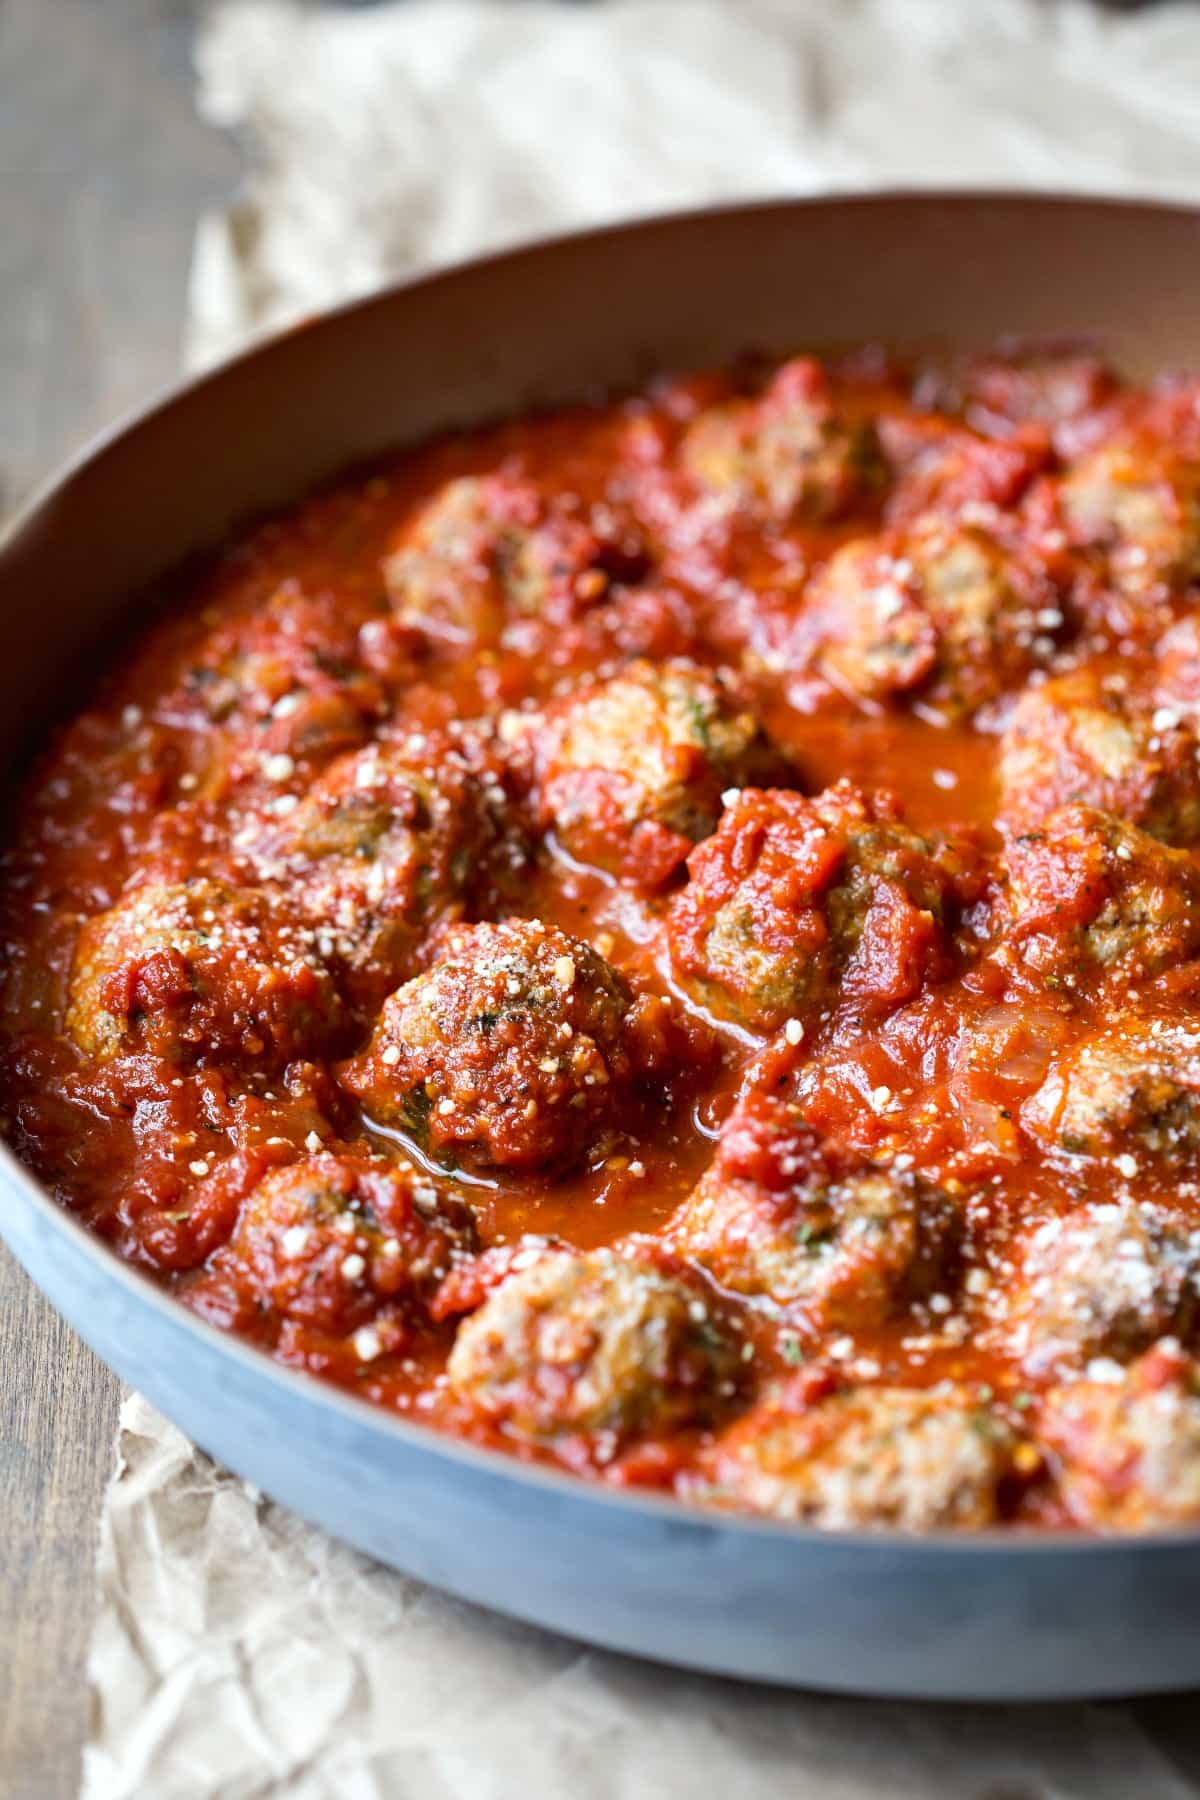meatballs: (380, 936, 637, 1130), (684, 792, 913, 994), (483, 1251, 737, 1432), (88, 887, 333, 1067), (749, 1390, 1047, 1533), (982, 801, 1184, 1007), (403, 471, 632, 650), (528, 670, 745, 853), (245, 1146, 474, 1312), (714, 1154, 937, 1319), (296, 763, 494, 942), (845, 526, 1033, 712), (1000, 1191, 1187, 1345)
